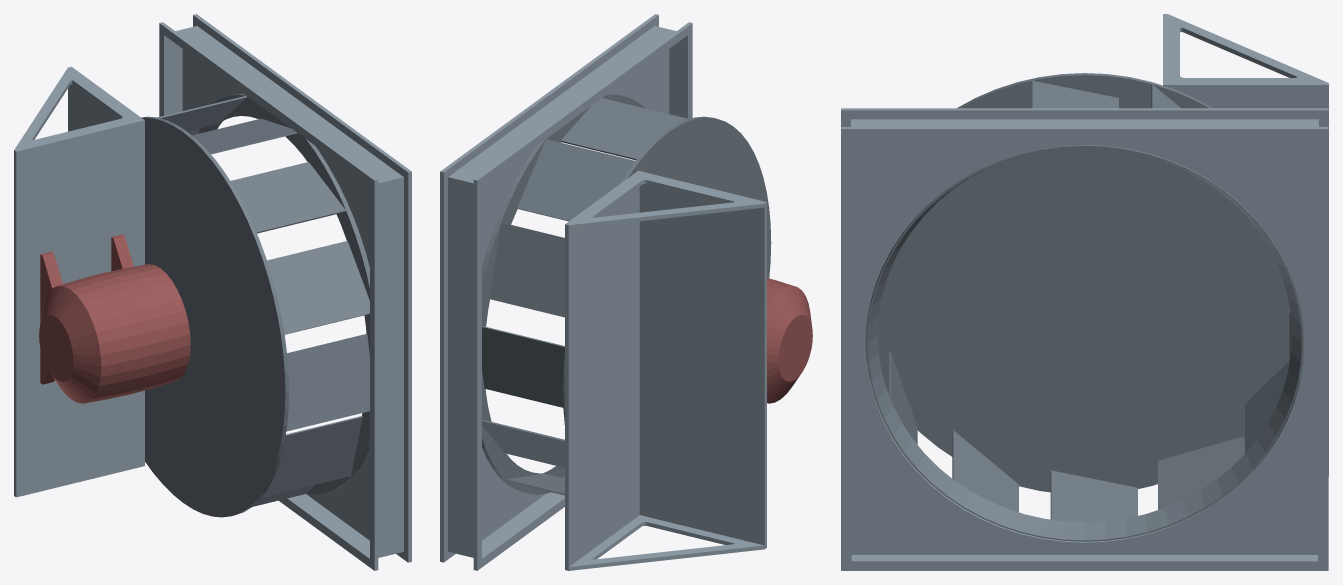
The model's file is Fan.glb.
3 renders of one model, left to right at view 1: azimuth 30°, elevation 25°; view 2: azimuth 150°, elevation 25°; view 3: azimuth 270°, elevation 25°, orthographic. The views are drawn at different scales.
Parts seen in each view (by area): view 1: child.002, child.004, child.001, child.003; view 2: child.004, child.001, child.002, child.003; view 3: child.002, child.001, child.004.
Part boxes in pixels (box(x1,y1,x2,y2)): child.002: box(141, 94, 369, 517); child.004: box(14, 66, 144, 497); child.001: box(159, 14, 411, 570); child.003: box(39, 234, 190, 403); child.004: box(565, 170, 766, 570); child.001: box(440, 14, 692, 570); child.002: box(482, 94, 771, 495); child.003: box(767, 278, 812, 403); child.002: box(865, 73, 1304, 541); child.001: box(841, 108, 1328, 570); child.004: box(1163, 14, 1328, 476).
Bounding box in the file's own units: 680 × 1000 × 1000.
